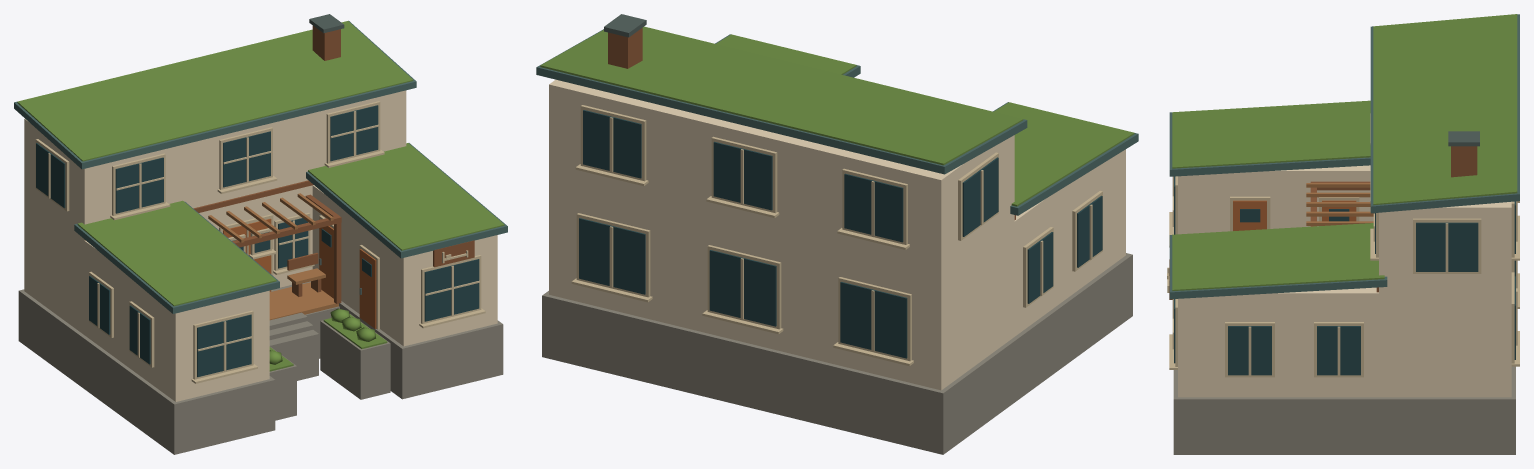
The model's file is courtyard_inn.meshopt.glb.
The picture shows the model from 3 angles, left to right: view 1: azimuth 30°, elevation 25°; view 2: azimuth 150°, elevation 25°; view 3: azimuth 270°, elevation 25°; orthographic projection. The views are drawn at different scales.
Parts seen in each view (by area): view 1: courtyard_inn; view 2: courtyard_inn; view 3: courtyard_inn.
Boxes of the visible parts, x1,y1,x2,y2 form: courtyard_inn: (14, 14, 507, 454); courtyard_inn: (536, 14, 1138, 454); courtyard_inn: (1167, 14, 1519, 454).
Bounding box in the file's own units: 11.24 × 8.57 × 9.31.
